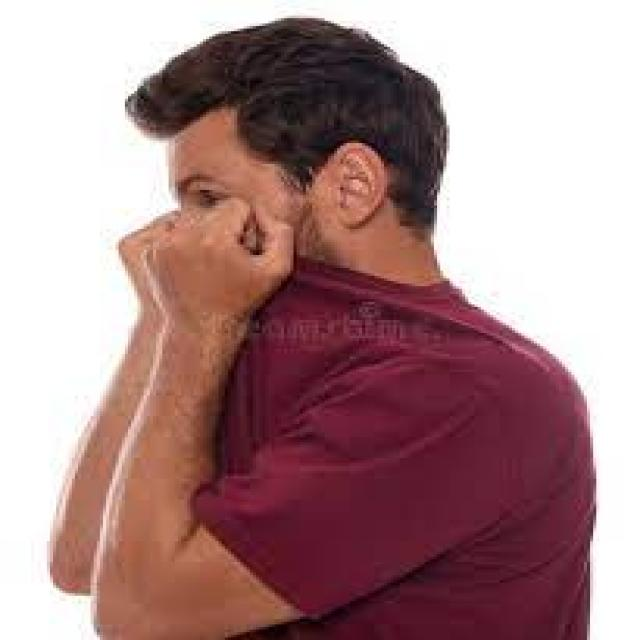8_ropa_rostro: (107, 209, 493, 396)
